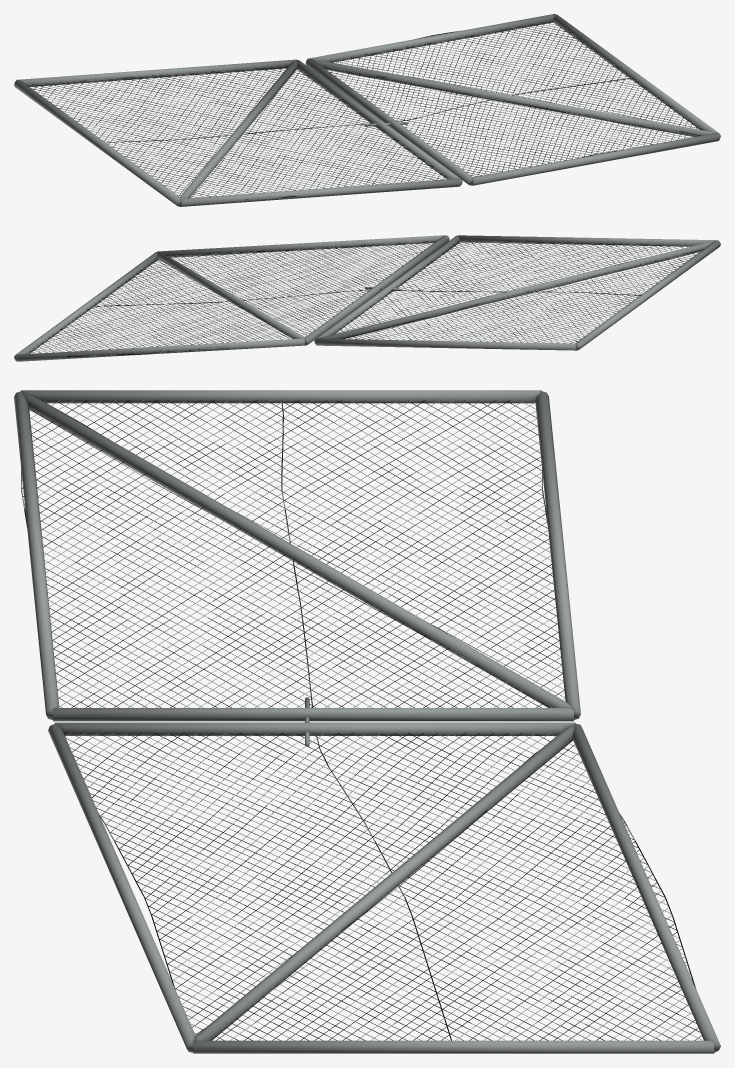
File: gate.obj
3 renders of one model, top to bottom at view 1: azimuth 30°, elevation 25°; view 2: azimuth 150°, elevation 25°; view 3: azimuth 270°, elevation 25°, orthographic. The views are drawn at different scales.
Parts seen in each view (by area): view 1: gate; view 2: gate; view 3: gate.
Boxes of the visible parts, x1,y1,x2,y2 form: gate: [14, 14, 720, 206]; gate: [14, 235, 720, 361]; gate: [14, 390, 720, 1053].
Size of the model in its own units: 3.93 by 0.7891 by 2.51.
1 material, 1 textured.
